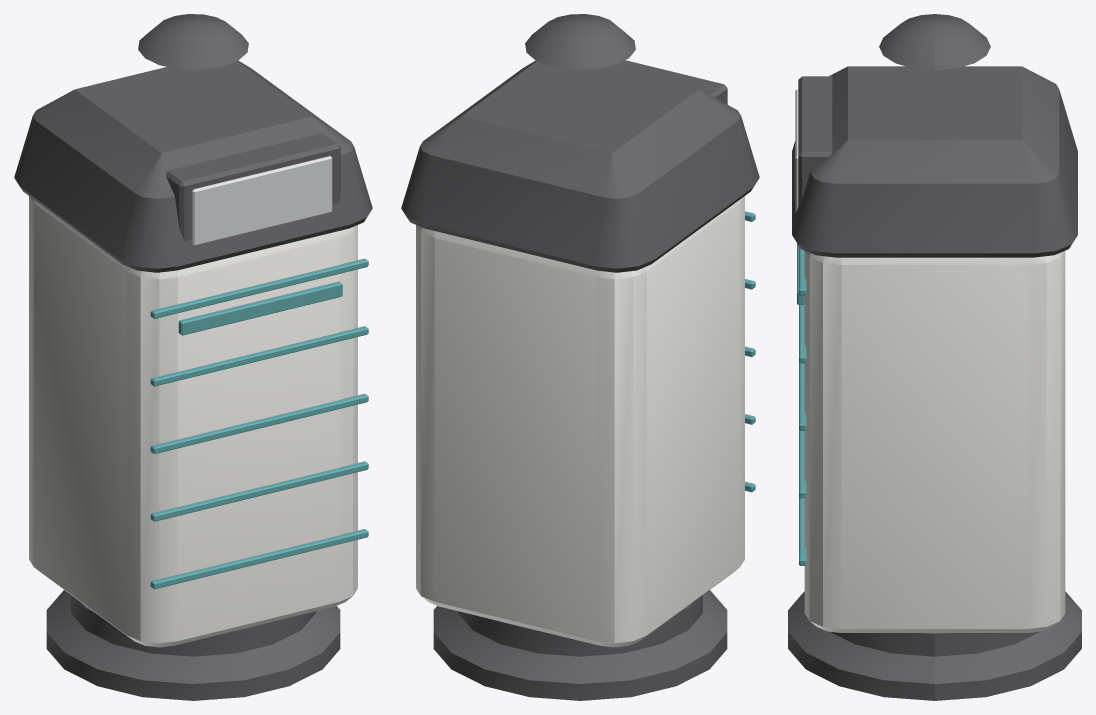
File: fast-food-and-drive-thru-outdoor-litter-bin-125c1c58__16205.glb
The picture shows the model from 3 angles, left to right: view 1: azimuth 30°, elevation 25°; view 2: azimuth 150°, elevation 25°; view 3: azimuth 270°, elevation 25°; orthographic projection.
Visible parts, largest first — view 1: outdoor-litter-bin; view 2: outdoor-litter-bin; view 3: outdoor-litter-bin.
Part boxes in pixels (x1=…): outdoor-litter-bin: x1=14, y1=14, x2=372, y2=700; outdoor-litter-bin: x1=401, y1=14, x2=759, y2=700; outdoor-litter-bin: x1=788, y1=14, x2=1081, y2=700.
Bounding box in the file's own units: 0.48 × 1.09 × 0.4727.
